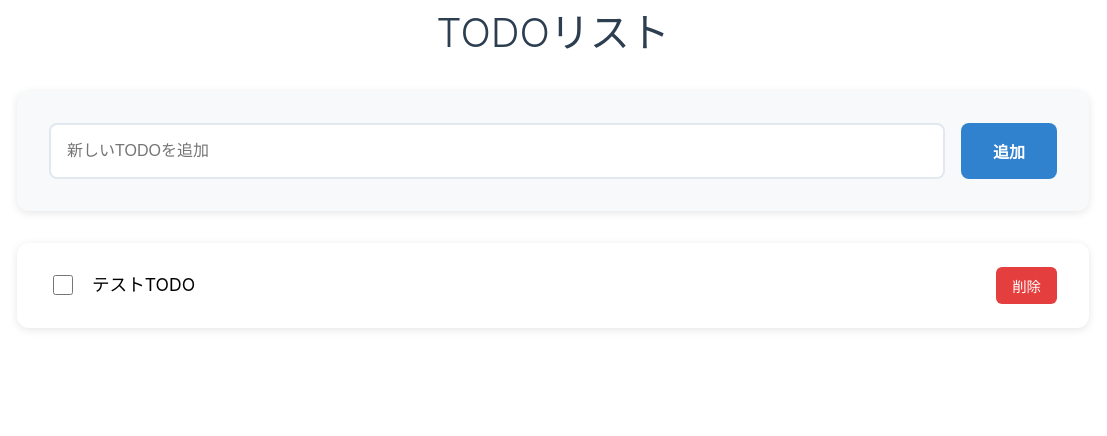
App.vue › TODO削除機能 › 削除エラー時にエラーメッセージが表示される
Click the button with class "delete-button": (1027, 286) [996,267,1057,304]
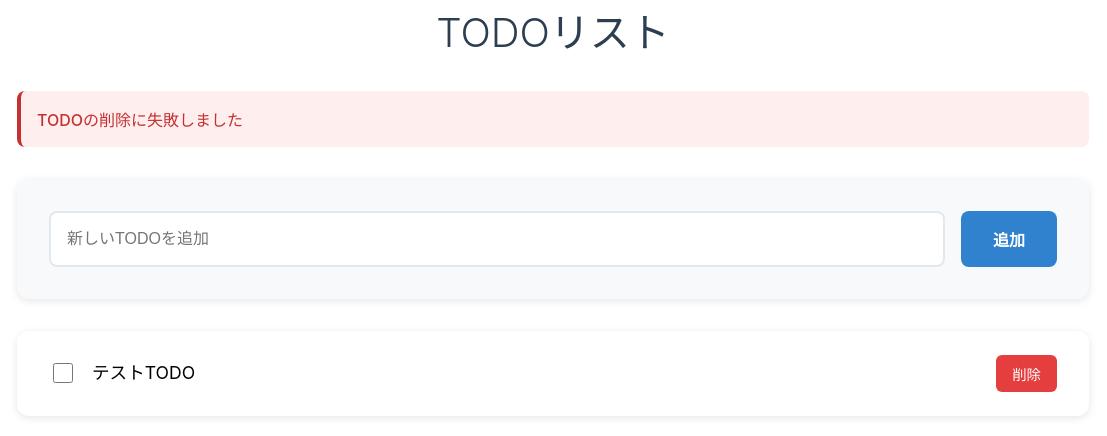
Expected: the text with class "error-message" reads "TODOの削除に失敗しました", [37,110,243,130]
